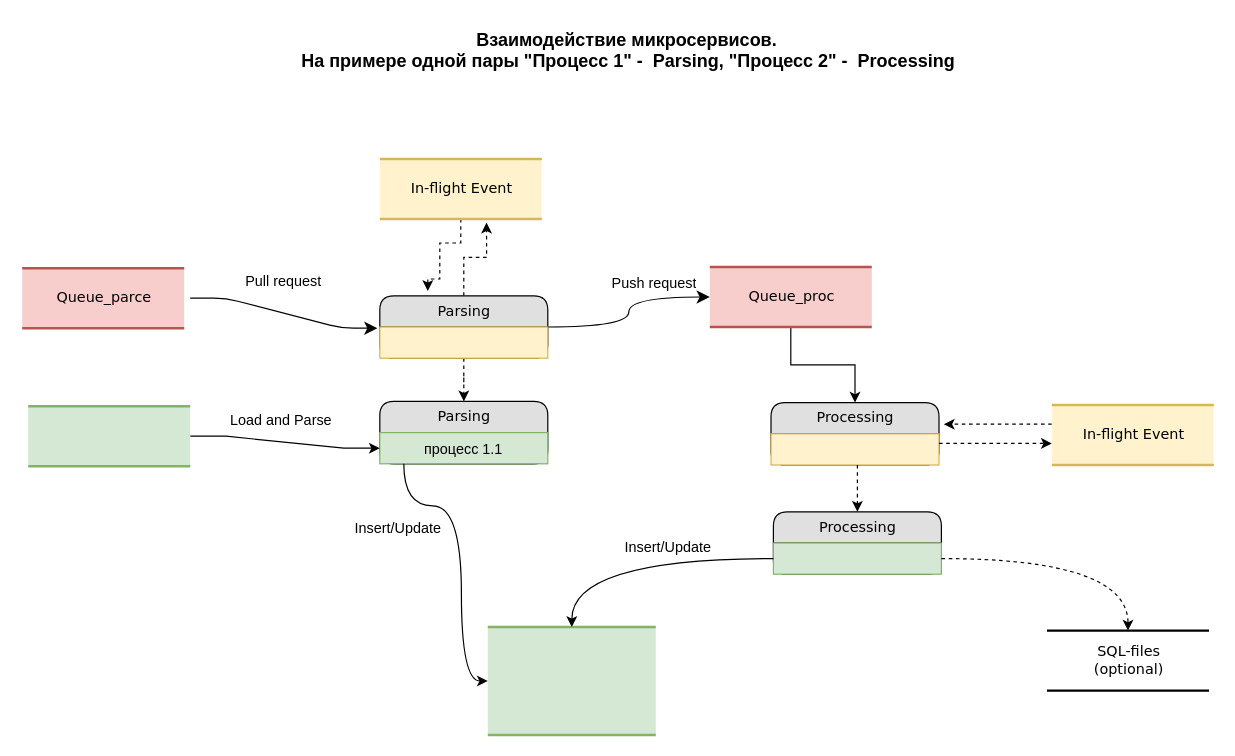
The diagram is 1235 pixels wide and 756 high, and some of its shapes have lost their labels. The centre of each missing label's shape, as x and y in pixels:
Database: [571,680]
XML-documents: [108,435]
процесс 1: [463,342]
процесс 2: [854,449]
процесс 2 .1: [856,558]
